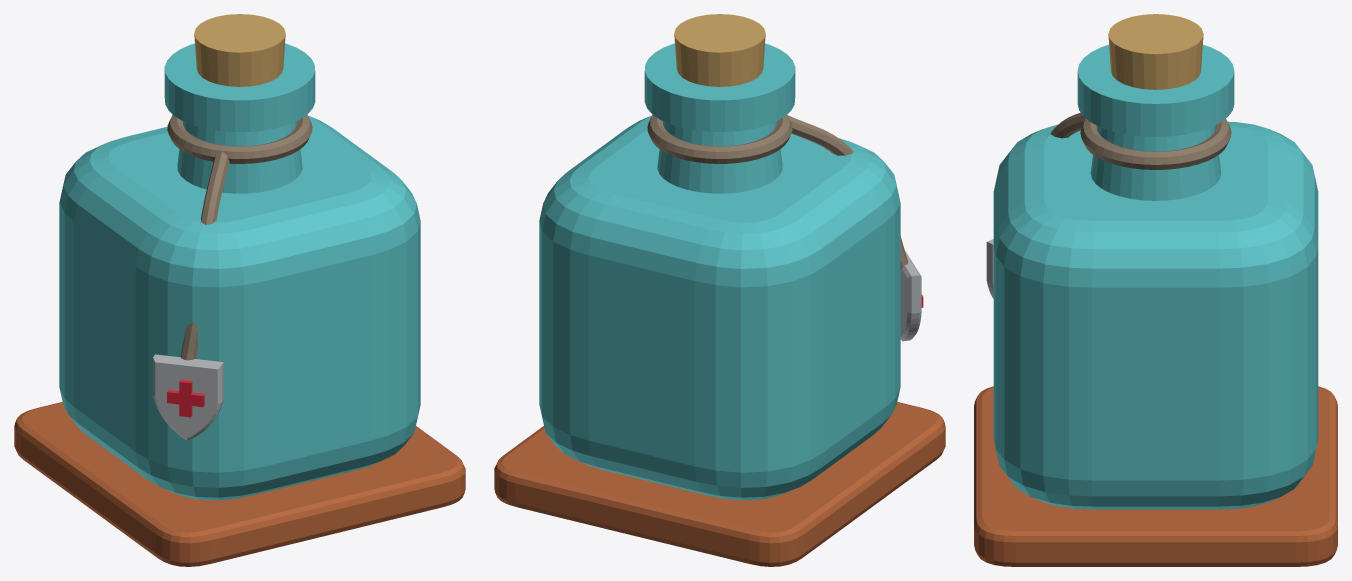
The model's file is HealthPotion.ready.glb.
The picture shows the model from 3 angles, left to right: view 1: azimuth 30°, elevation 25°; view 2: azimuth 150°, elevation 25°; view 3: azimuth 270°, elevation 25°; orthographic projection. The views are drawn at different scales.
Visible parts, largest first — view 1: Glass, HealthPotion; view 2: Glass, HealthPotion; view 3: Glass, HealthPotion.
Part boxes in pixels (box(x1,y1,x2,y2)): Glass: box(59, 43, 420, 500); HealthPotion: box(14, 14, 465, 566); Glass: box(539, 43, 900, 500); HealthPotion: box(494, 14, 945, 566); Glass: box(993, 44, 1318, 509); HealthPotion: box(974, 14, 1337, 566).
Bounding box in the file's own units: 1.3 × 1.81 × 1.3.
1 material, 1 textured.
